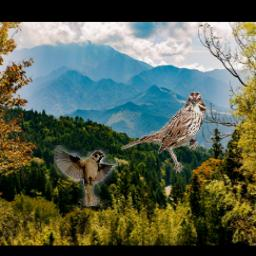Sparrow: (119, 91, 208, 173), (55, 145, 119, 206)
